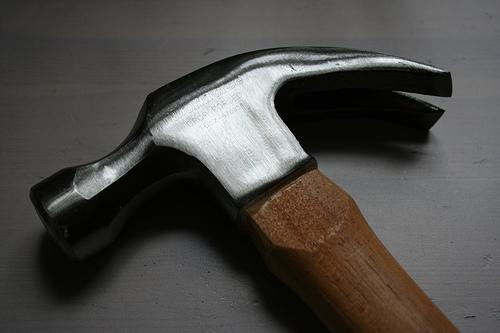hammer: (27, 44, 460, 332)
